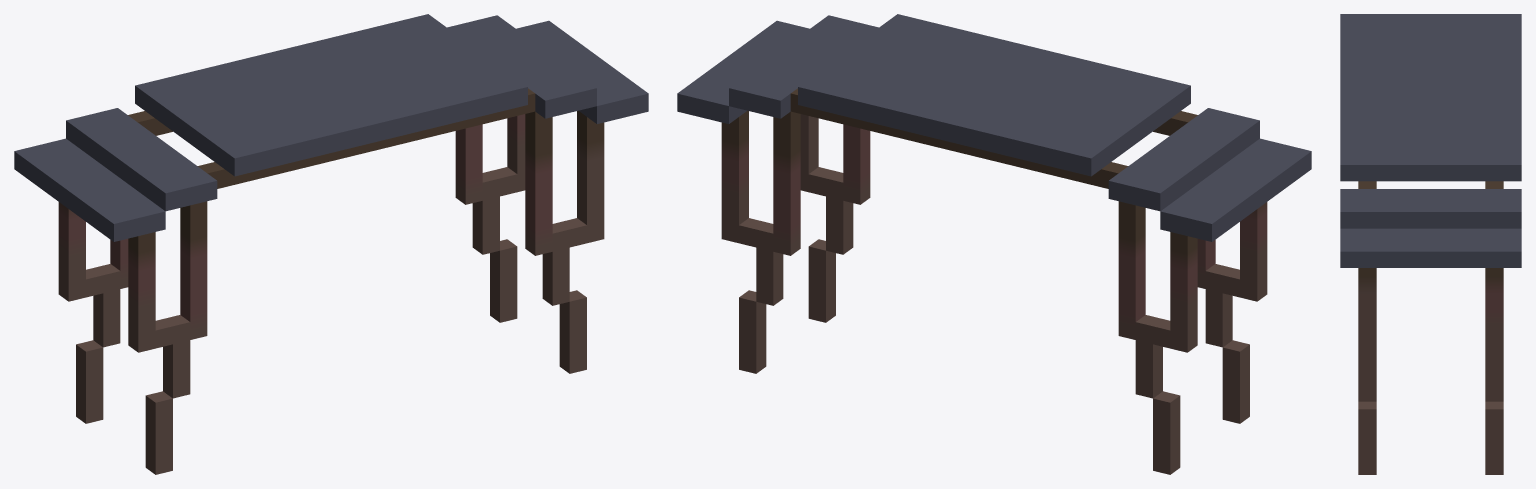
The model's file is Market_Stands.fbx.
3 views of the same model, side by side, from view 1: azimuth 30°, elevation 25°; view 2: azimuth 150°, elevation 25°; view 3: azimuth 270°, elevation 25° (orthographic). The views are drawn at different scales.
Parts seen in each view (by area): view 1: Market_Stands; view 2: Market_Stands; view 3: Market_Stands.
Part boxes in pixels (bbox=[...]): Market_Stands: bbox=[14, 14, 648, 474]; Market_Stands: bbox=[677, 14, 1311, 474]; Market_Stands: bbox=[1340, 14, 1521, 474].
Bounding box in the file's own units: 310 × 170 × 100.
Materials: 1 (1 with a texture image).
